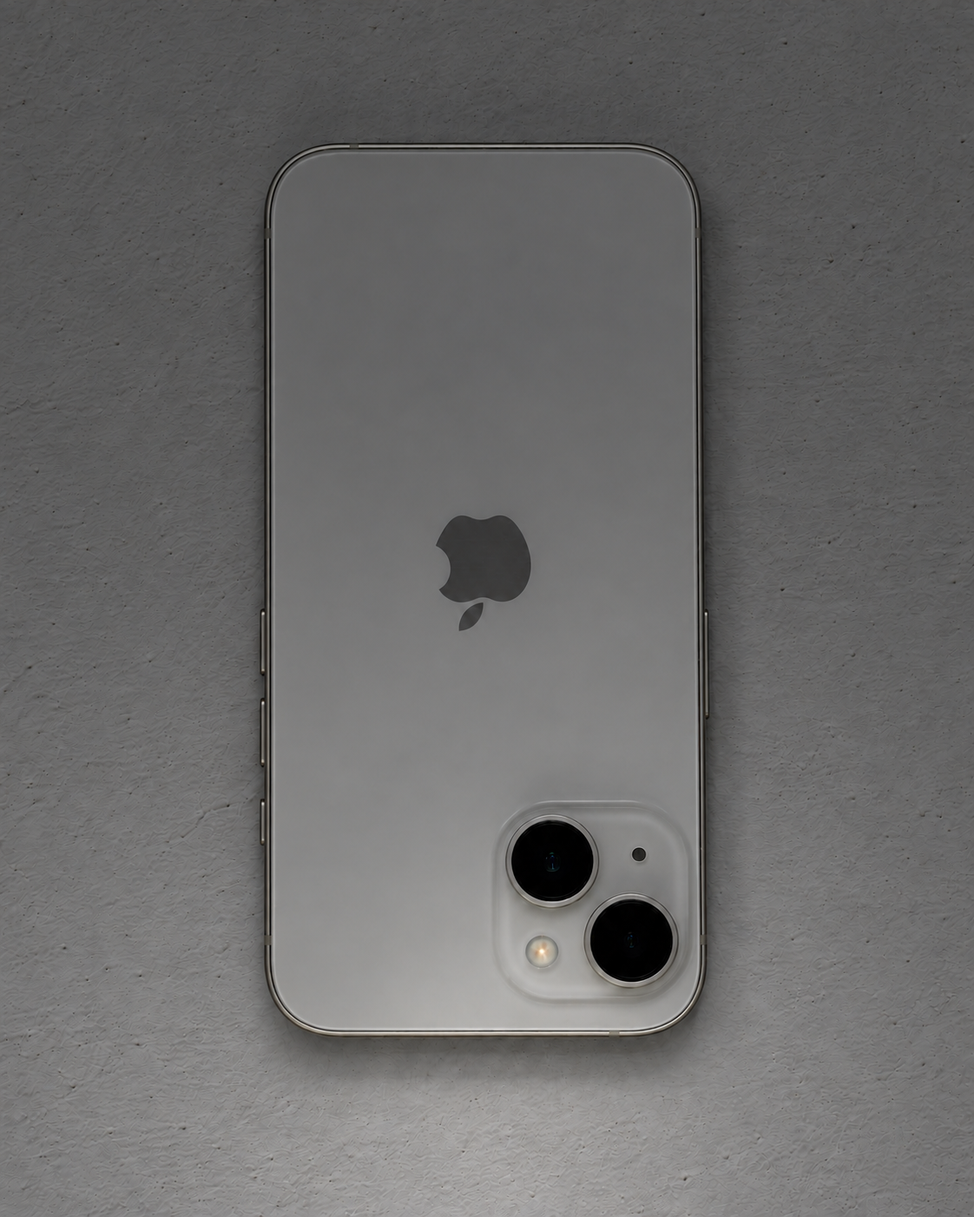iphone_14_white: (197, 122, 813, 1089), (478, 798, 703, 1006)
